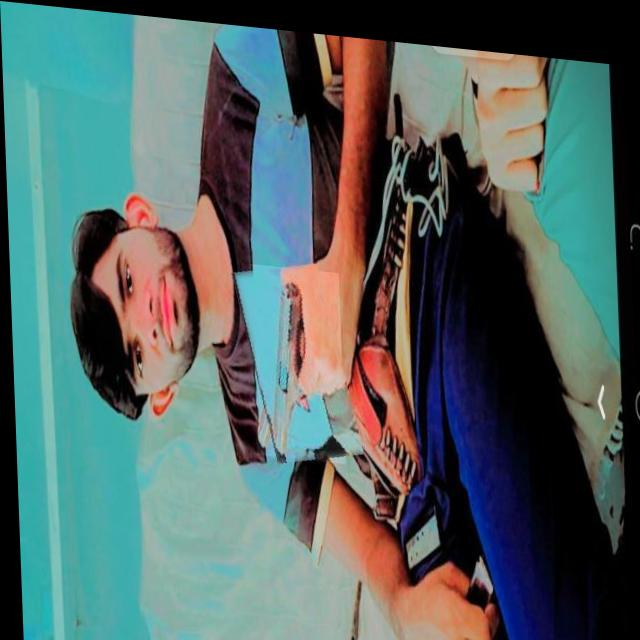handgun: (238, 253, 352, 460)
